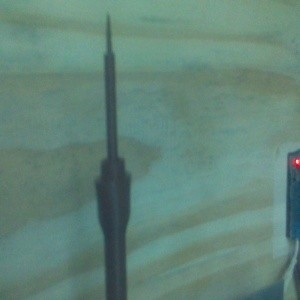solder: (94, 12, 132, 300)
